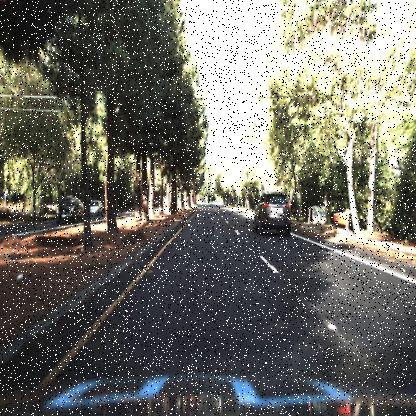car: (254, 191, 290, 237), (56, 197, 85, 224), (86, 195, 107, 219)
